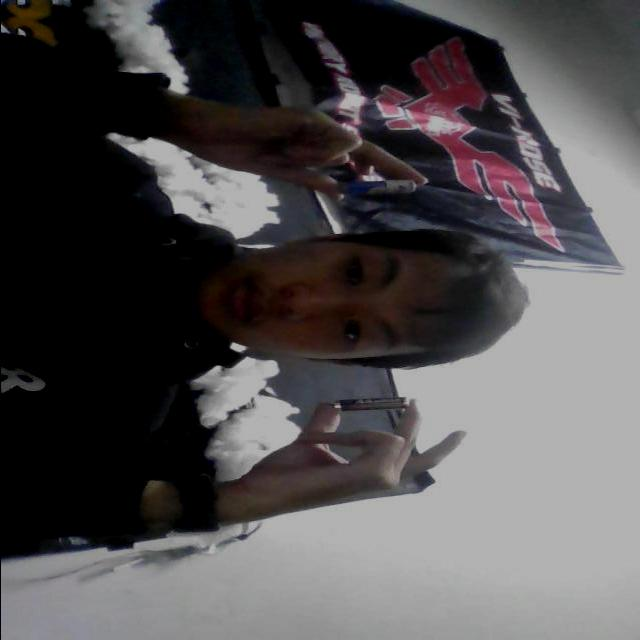AAA: (316, 391, 434, 418), (332, 176, 425, 198)
